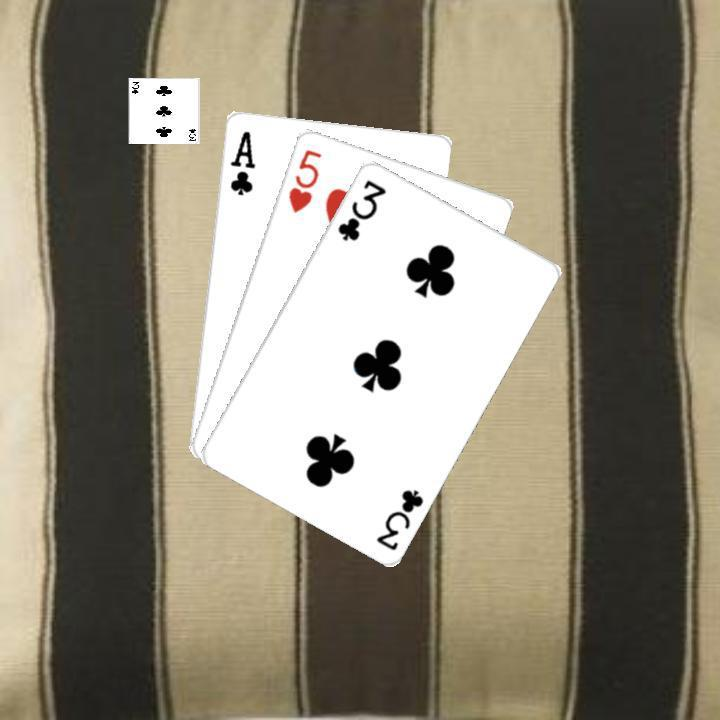3: (332, 174, 388, 243), (371, 484, 426, 552)
5: (283, 144, 324, 214)
A: (225, 126, 257, 197)
